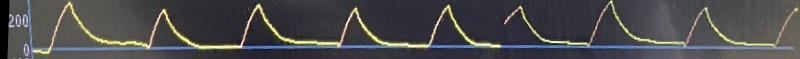normal_volume: (34, 0, 800, 57)
